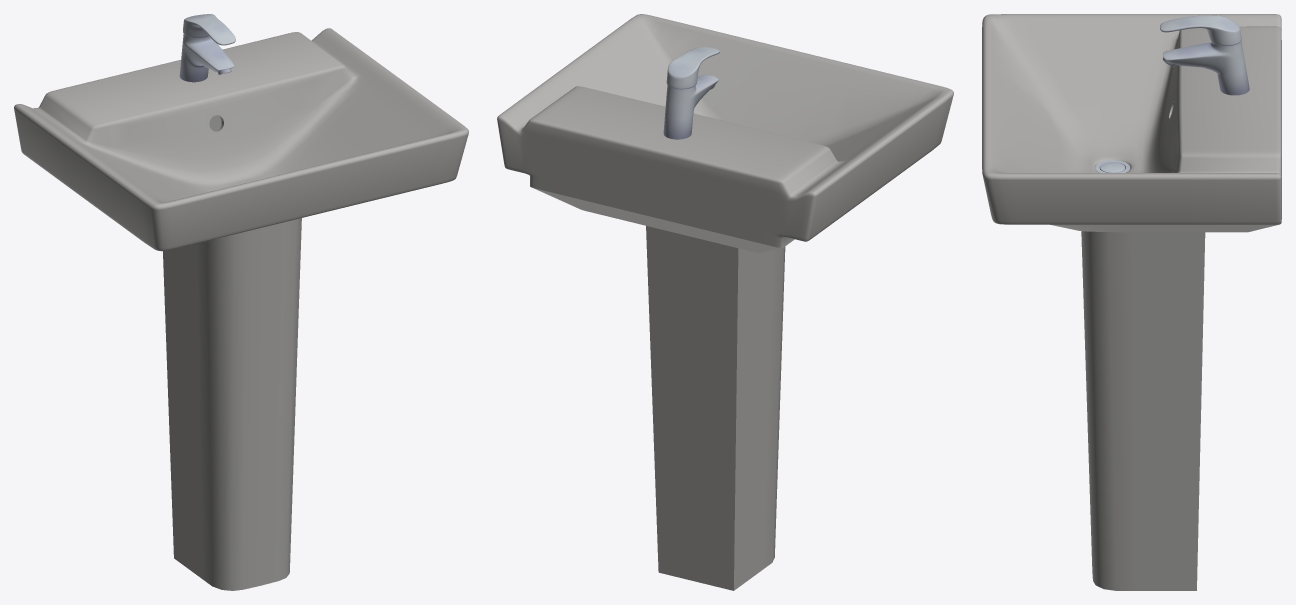
File: visual_LowPoly_07_PedestalSink.dae
The picture shows the model from 3 angles, left to right: view 1: azimuth 30°, elevation 25°; view 2: azimuth 150°, elevation 25°; view 3: azimuth 270°, elevation 25°; orthographic projection. The views are drawn at different scales.
Visible parts, largest first — view 1: SM_sink; view 2: SM_sink; view 3: SM_sink.
Part boxes in pixels (x1,y1,x2,y2): SM_sink: [14, 14, 468, 590]; SM_sink: [497, 14, 953, 590]; SM_sink: [982, 14, 1281, 590].
Size of the model in its own units: 59.83 by 46.42 by 94.23.
1 material, 1 textured.
